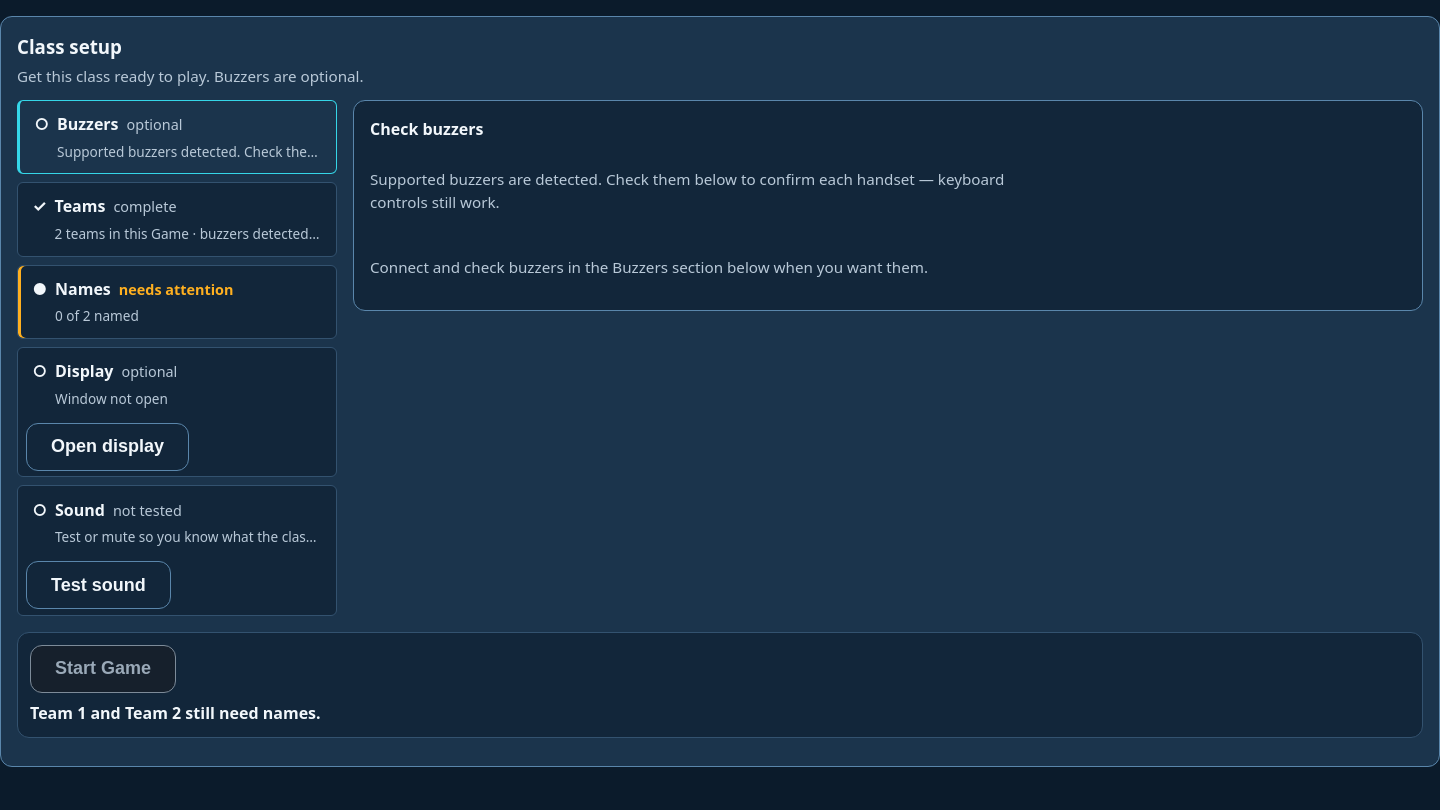
Test: ClassroomSetupPanel › allows colour-press Names guidance only when wbuzzPresent is true
Click the button with test id "readiness-names" at coordinates (83, 289), box [26,271,328,332]
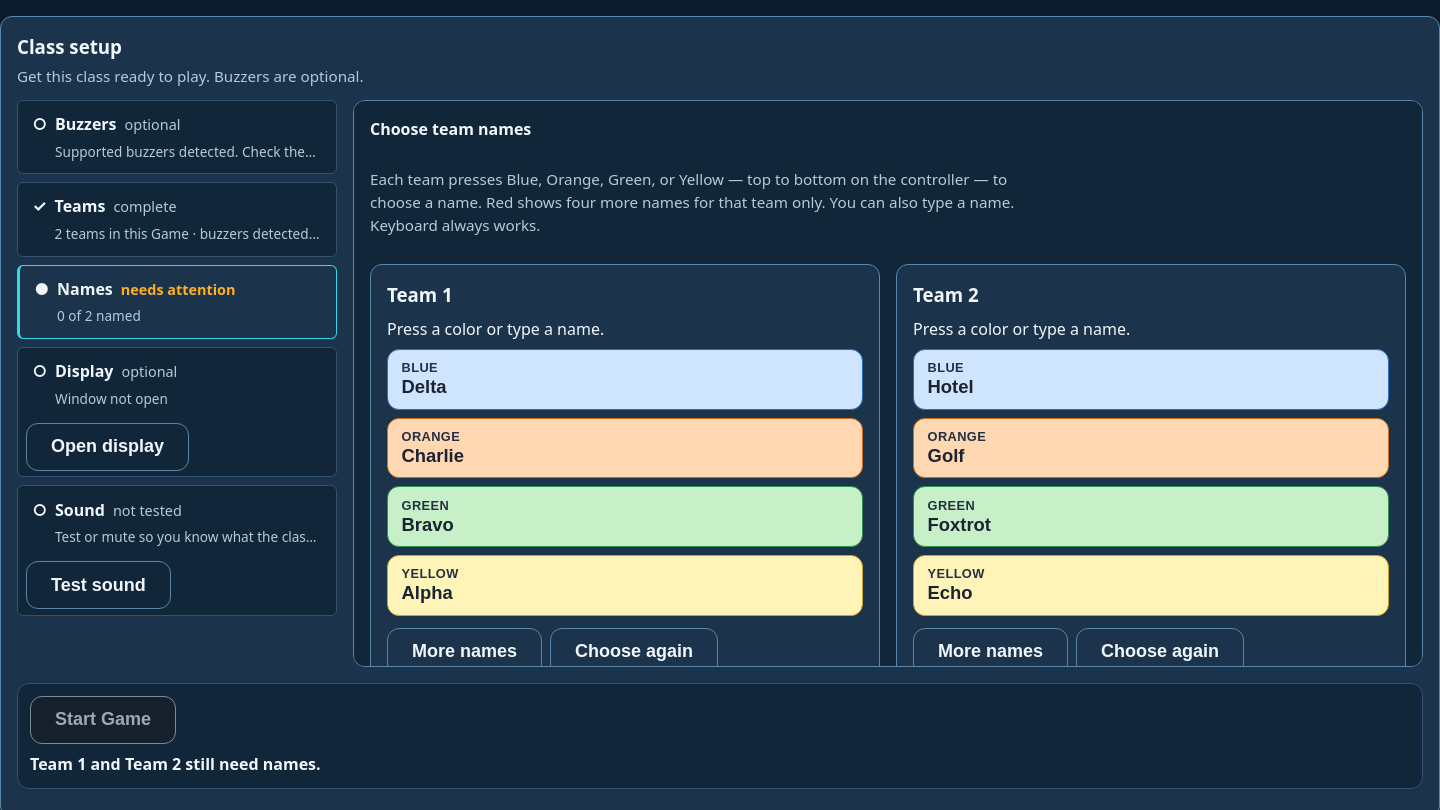
Result: the text with test id "setup-sony-copy" shows "Blue, Orange, Green, or Yellow" at [370,169,1014,235]
Result: the text with test id "setup-sony-copy" shows "type a name" at [370,169,1014,235]
Result: the text with test id "setup-sony-copy" shows "keyboard always works" at [370,169,1014,235]
